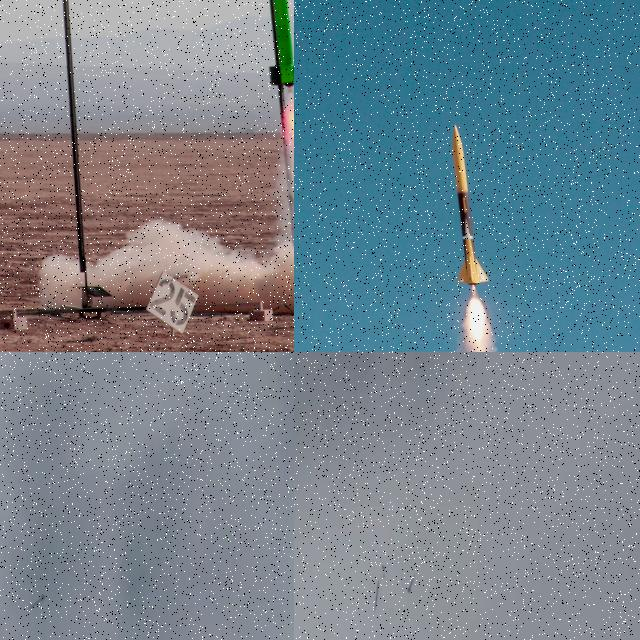Rocket: (452, 124, 490, 286), (266, 0, 294, 87), (28, 592, 45, 609), (406, 572, 416, 596)
